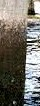Corrosion: (1, 18, 28, 106)
